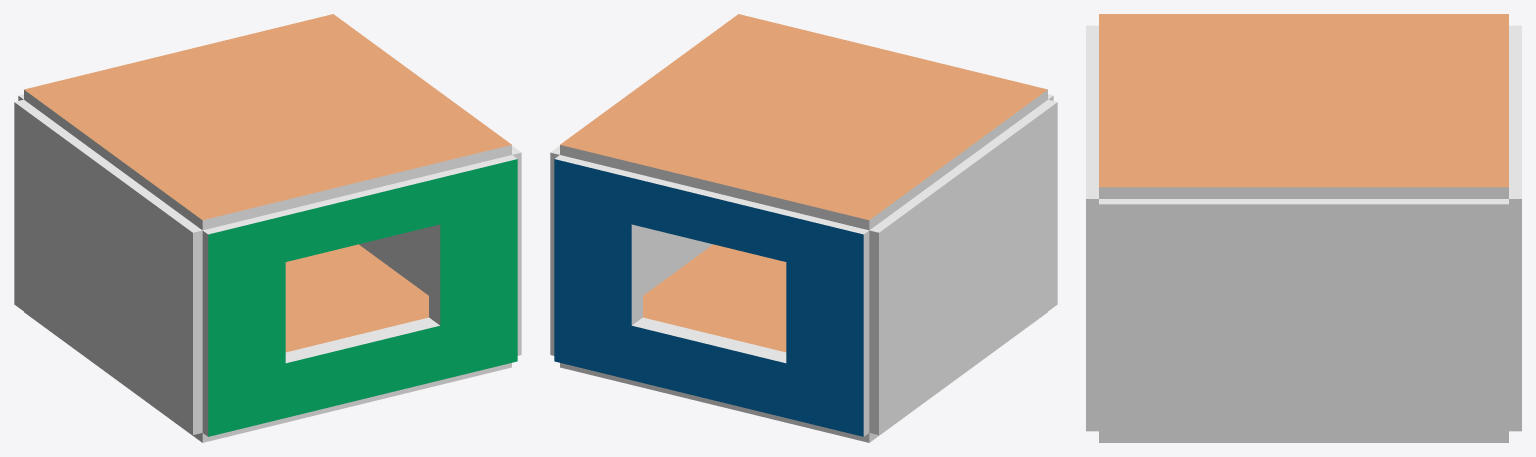
File: Room.glb
3 views of the same model, side by side, from view 1: azimuth 30°, elevation 25°; view 2: azimuth 150°, elevation 25°; view 3: azimuth 270°, elevation 25° (orthographic). The views are drawn at different scales.
Visible parts, largest first — view 1: Room; view 2: Room; view 3: Room.
Boxes of the visible parts, x1=… form: Room: x1=14, y1=14, x2=521, y2=442; Room: x1=550, y1=14, x2=1057, y2=442; Room: x1=1086, y1=14, x2=1521, y2=442.
Size of the model in its own units: 4.25 by 2.75 by 4.25.
1 material, 1 textured.
